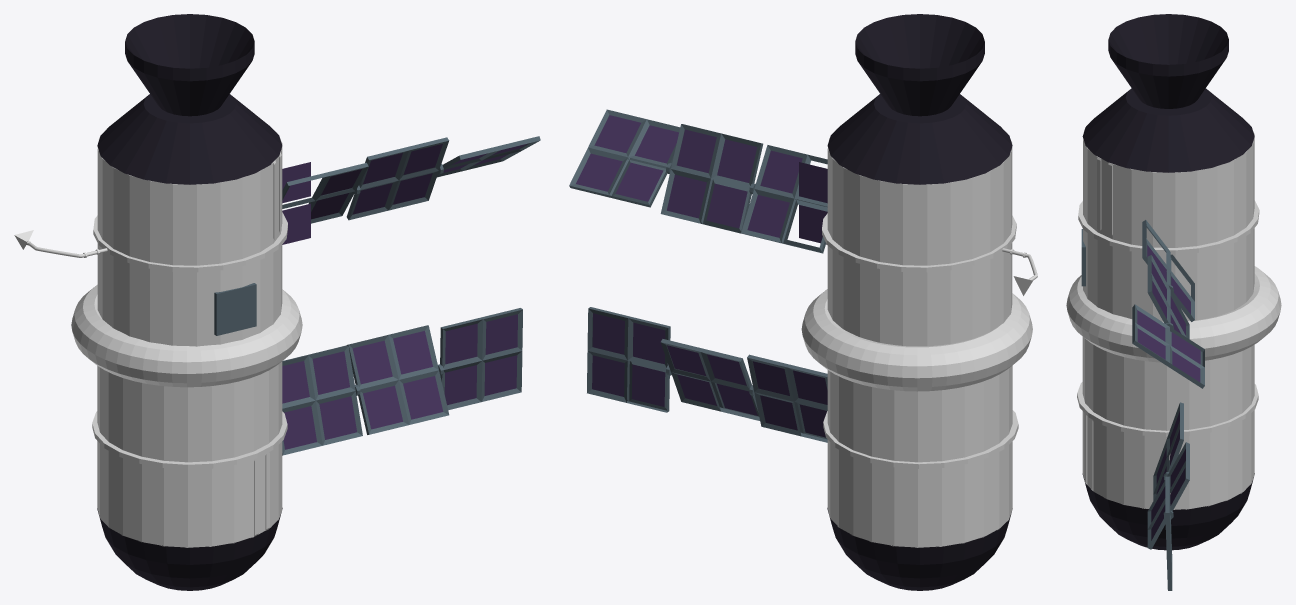
The model's file is iss.gltf.
3 views of the same model, side by side, from view 1: azimuth 30°, elevation 25°; view 2: azimuth 150°, elevation 25°; view 3: azimuth 270°, elevation 25° (orthographic). The views are drawn at different scales.
Parts seen in each view (by area): view 1: Cylinder.005, Cylinder, Cone, Torus, Cone.001, Sphere, Cube.004, Cube.005, Cube.003, Cube.001, Cube.006, Cube (+20 smaller); view 2: Cylinder, Cylinder.005, Torus, Cone, Cone.001, Sphere, Cube.001, Cube.005, Cube.002, Cube, Cube.004, Cube.003 (+25 smaller); view 3: Cylinder, Cylinder.005, Cone, Cone.001, Torus, Sphere, Cube.002, Cube, Cube.004, Cube.001, Cube.003, Circle (+5 smaller).
Boxes of the visible parts, bbox=[...] form: Cylinder.005: bbox=[92, 361, 287, 547]; Cylinder: bbox=[93, 128, 287, 346]; Cone: bbox=[97, 94, 282, 184]; Torus: bbox=[71, 284, 302, 387]; Cone.001: bbox=[125, 14, 254, 116]; Sphere: bbox=[97, 508, 282, 590]; Cube.004: bbox=[346, 325, 449, 434]; Cube.005: bbox=[440, 308, 522, 410]; Cube.003: bbox=[282, 345, 362, 455]; Cube.001: bbox=[346, 137, 449, 220]; Cube.006: bbox=[214, 283, 256, 335]; Cube: bbox=[282, 162, 368, 223]; Cylinder: bbox=[822, 128, 1016, 346]; Cylinder.005: bbox=[823, 365, 1018, 547]; Torus: bbox=[801, 289, 1032, 391]; Cone: bbox=[827, 94, 1012, 184]; Cone.001: bbox=[855, 14, 984, 116]; Sphere: bbox=[827, 508, 1011, 590]; Cube.001: bbox=[660, 124, 763, 233]; Cube.005: bbox=[587, 307, 670, 412]; Cube.002: bbox=[569, 109, 680, 207]; Cube: bbox=[741, 145, 827, 253]; Cube.004: bbox=[660, 339, 759, 420]; Cube.003: bbox=[747, 354, 827, 442]; Cylinder: bbox=[1078, 120, 1259, 321]; Cylinder.005: bbox=[1077, 337, 1258, 509]; Cone: bbox=[1082, 89, 1254, 172]; Cone.001: bbox=[1108, 14, 1228, 108]; Torus: bbox=[1066, 266, 1281, 362]; Sphere: bbox=[1082, 473, 1254, 550]; Cube.002: bbox=[1132, 304, 1204, 388]; Cube: bbox=[1142, 220, 1194, 321]; Cube.004: bbox=[1147, 442, 1189, 549]; Cube.001: bbox=[1147, 255, 1189, 338]; Cube.003: bbox=[1153, 402, 1183, 500]; Circle: bbox=[1125, 88, 1211, 115].
Size of the model in its own units: 5.94 by 6.45 by 2.5.
